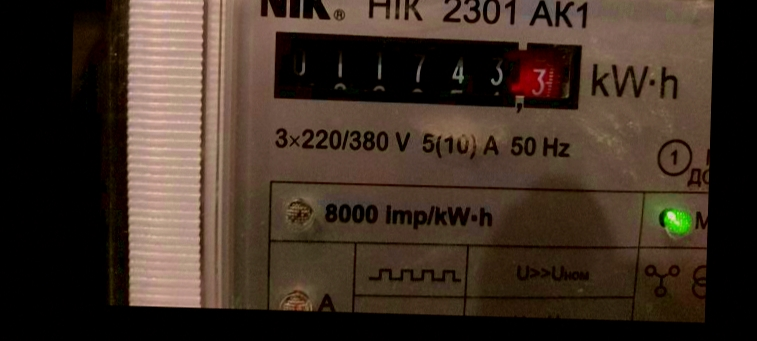0: (288, 42, 308, 79)
1: (371, 45, 387, 80), (334, 44, 345, 78)
3: (485, 52, 505, 87), (528, 65, 547, 99)
4: (448, 51, 466, 85)
7: (409, 49, 428, 83)
screen: (258, 18, 594, 122)
